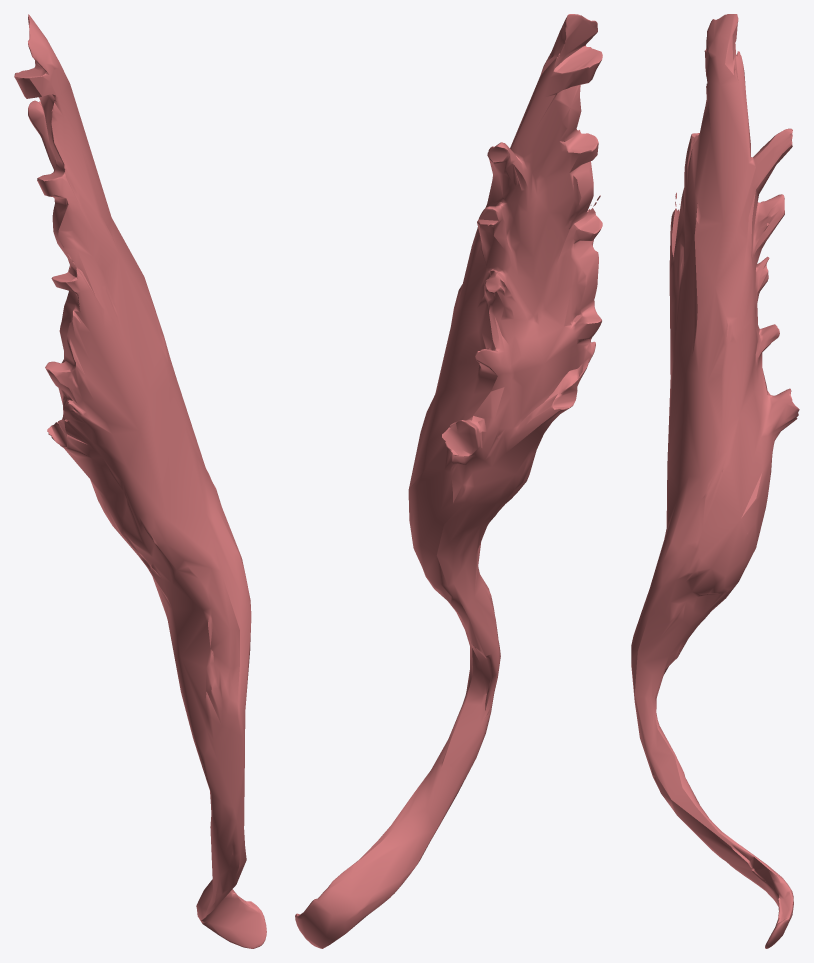
The picture shows the model from 3 angles, left to right: view 1: azimuth 30°, elevation 25°; view 2: azimuth 150°, elevation 25°; view 3: azimuth 270°, elevation 25°; orthographic projection. The views are drawn at different scales.
Parts seen in each view (by area): view 1: FJ1431M; view 2: FJ1431M; view 3: FJ1431M.
Part boxes in pixels (x1,y1,x2,y2): FJ1431M: (14, 14, 266, 948); FJ1431M: (295, 14, 602, 948); FJ1431M: (631, 14, 799, 948).
Bounding box in the file's own units: 0.1057 × 0.3616 × 0.0661.
